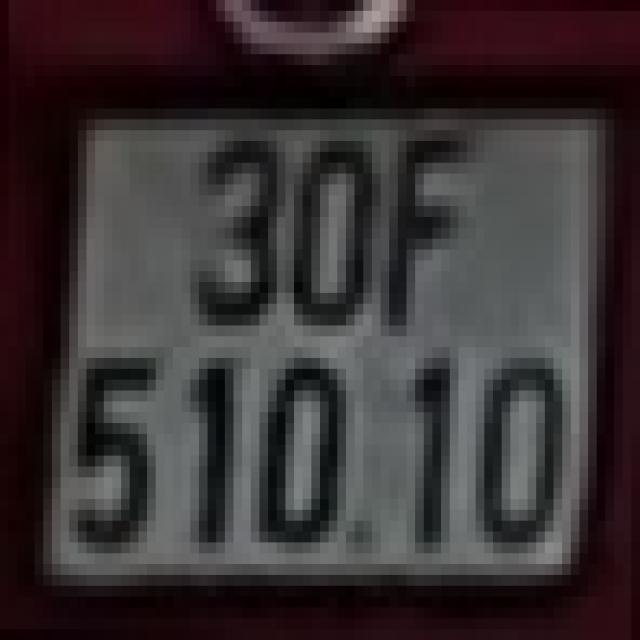0: (285, 130, 372, 326), (259, 358, 346, 542), (476, 358, 562, 542)
1: (406, 358, 458, 554), (190, 358, 242, 542)
3: (190, 130, 286, 326)
5: (78, 347, 156, 553)
F: (380, 130, 476, 326)
